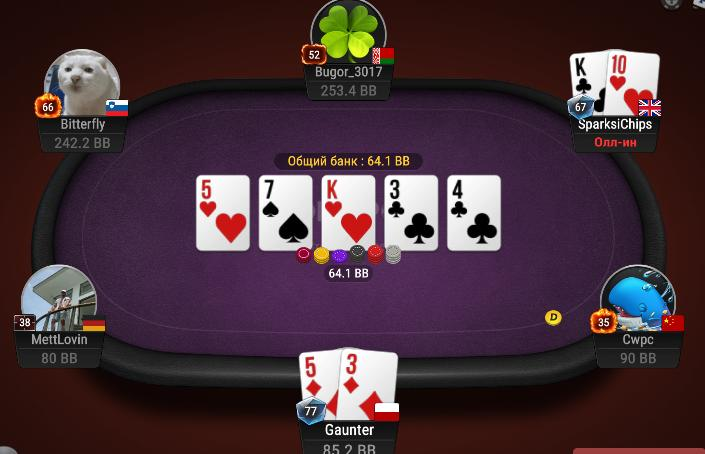10h: (607, 47, 659, 116)
3c: (386, 176, 436, 250)
3d: (339, 347, 398, 422)
4c: (447, 176, 501, 249)
5d: (298, 349, 340, 421)
5h: (197, 174, 249, 252)
7s: (259, 174, 311, 251)
Kc: (569, 52, 608, 116)
Kh: (321, 175, 376, 250)
